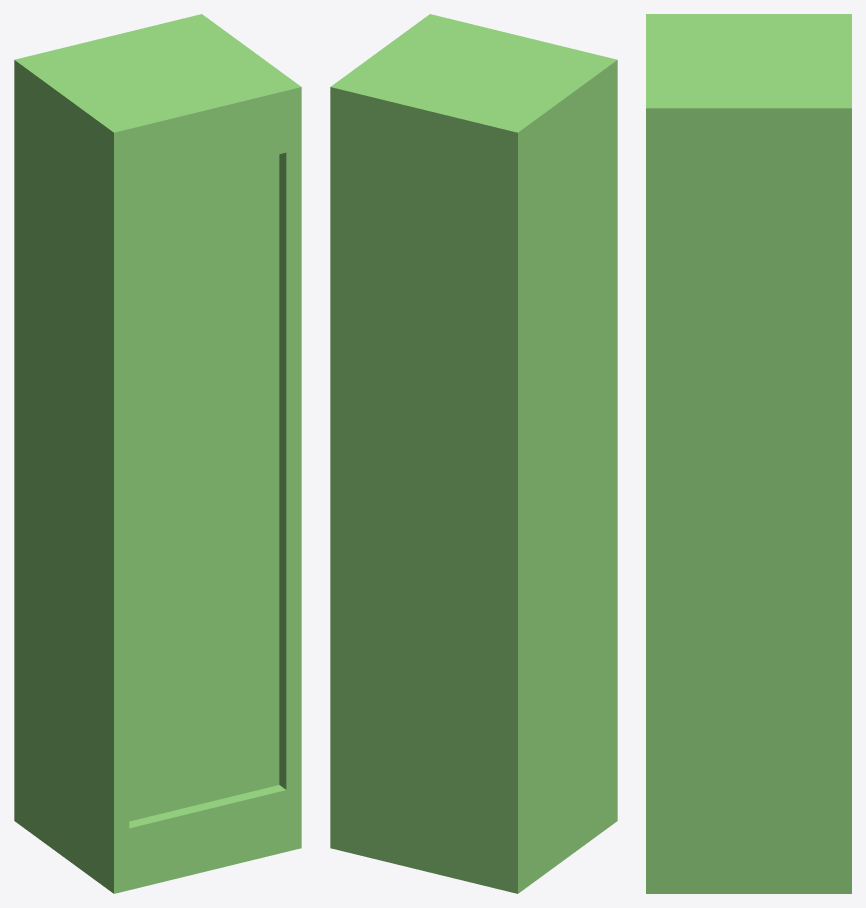
Rendered from buildings.fbx.
The picture shows the model from 3 angles, left to right: view 1: azimuth 30°, elevation 25°; view 2: azimuth 150°, elevation 25°; view 3: azimuth 270°, elevation 25°; orthographic projection. The views are drawn at different scales.
Parts seen in each view (by area): view 1: Cube; view 2: Cube; view 3: Cube.
Part boxes in pixels (x1=…): Cube: x1=14, y1=14, x2=301, y2=893; Cube: x1=330, y1=14, x2=617, y2=893; Cube: x1=646, y1=14, x2=851, y2=893.
Size of the model in its own units: 2629 by 10192 by 2420.
